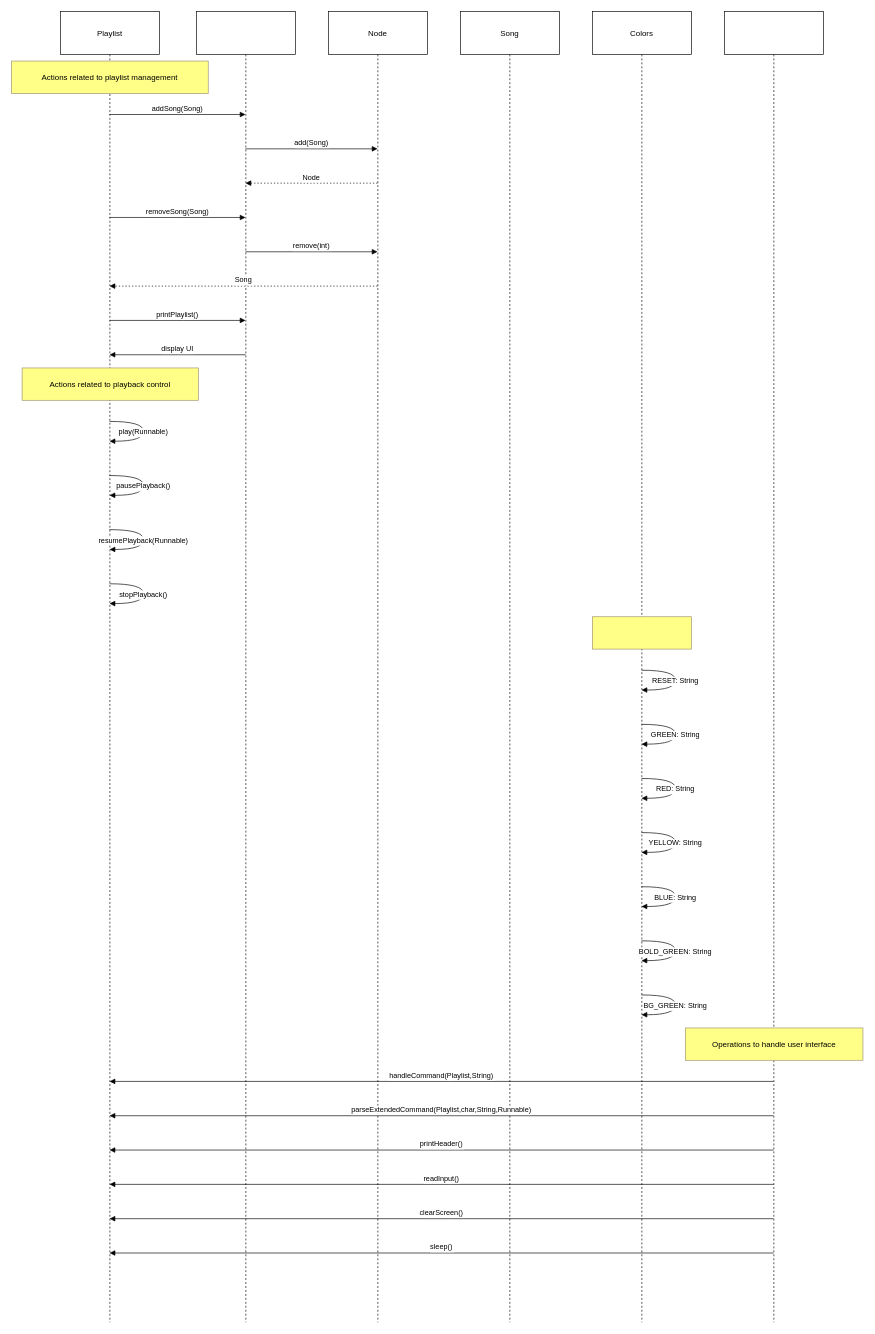
Some shapes in this 875 by 1334 pixel diagram are drawn without their labels. The box of each missing label's shape, as (x1, y1, x2, y2) in pixels:
Color constants: (592, 616, 691, 649)
LinkedList: (196, 11, 295, 1322)
Listly: (724, 11, 823, 1322)
